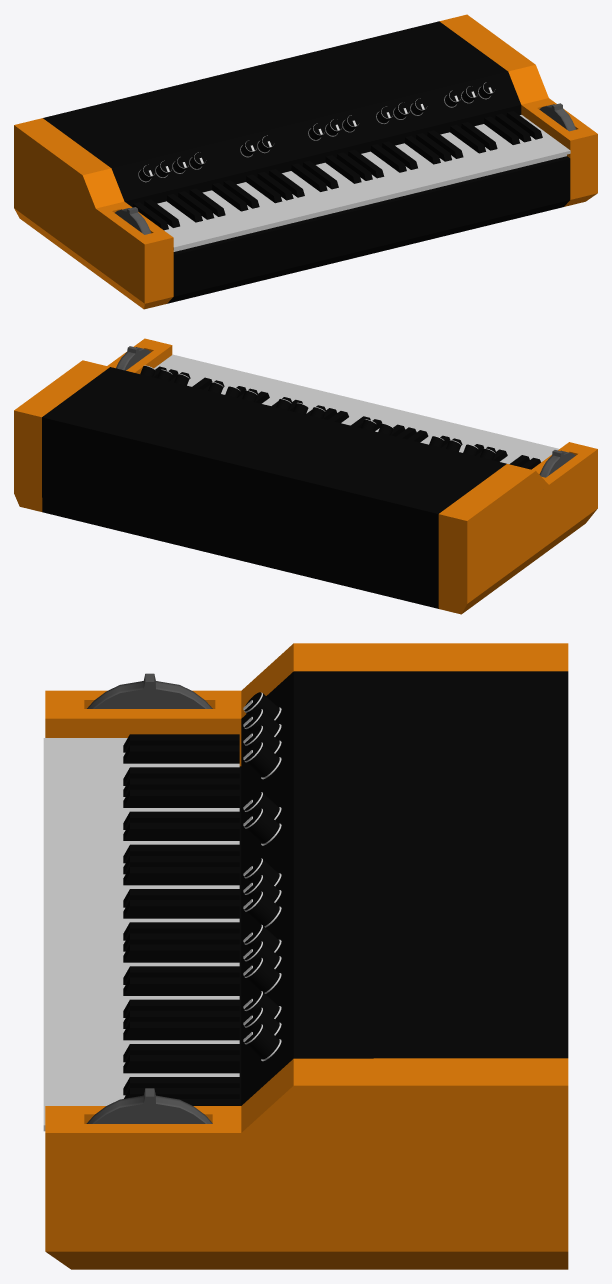
The model's file is Synthesizer.fbx.
3 views of the same model, one above another, from view 1: azimuth 30°, elevation 25°; view 2: azimuth 150°, elevation 25°; view 3: azimuth 270°, elevation 25° (orthographic). The views are drawn at different scales.
Parts seen in each view (by area): view 1: Synthesizer; view 2: Synthesizer; view 3: Synthesizer.
Part boxes in pixels (box(x1,y1,x2,y2)): Synthesizer: box(14, 14, 597, 309); Synthesizer: box(14, 338, 597, 614); Synthesizer: box(43, 643, 568, 1269).
Bounding box in the file's own units: 400 × 82 × 201.
